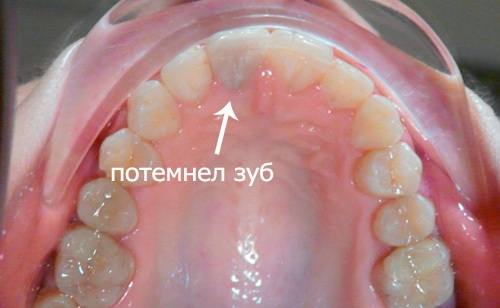UL1BC_healthy: (364, 147, 421, 195)
UL1M_healthy: (379, 245, 455, 308)
UL2BC_healthy: (378, 197, 437, 245)
ULCI_healthy: (270, 33, 328, 93)
ULC_healthy: (353, 97, 405, 149)
ULLI_healthy: (325, 59, 369, 109)
UR1BC_healthy: (104, 133, 161, 167)
UR1M_healthy: (58, 233, 136, 303)
UR2BC_healthy: (79, 183, 139, 235)
URCI_decay: (211, 28, 268, 90)
URC_healthy: (128, 83, 180, 137)
URLI_healthy: (162, 51, 212, 102)
